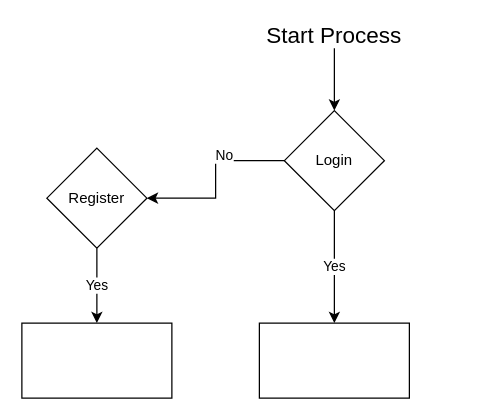
This 481x420 diagram has some shape labels left out. The shapes that lost their labels are listed below. From the top down, each one's centre as x and y in pixels, then its label:
At [96,360]: "View Register Form".
At [333,360]: "View Login Form".
